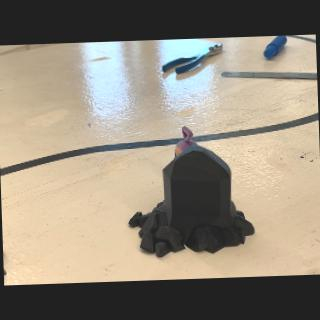teletubby: (175, 126, 197, 157)
